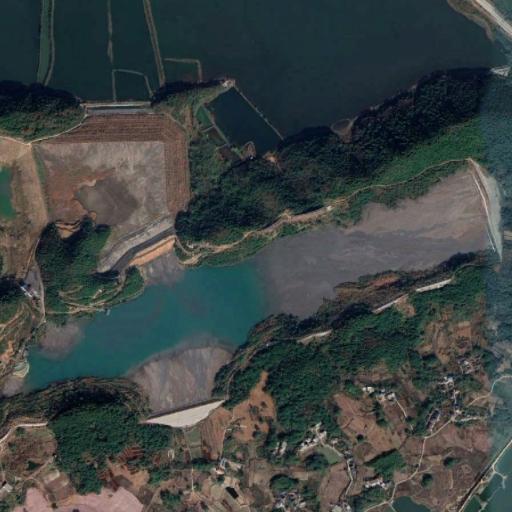tp: (20, 159, 501, 431), (31, 113, 185, 277)
